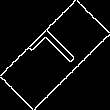L_SE: (26, 26, 84, 84)
